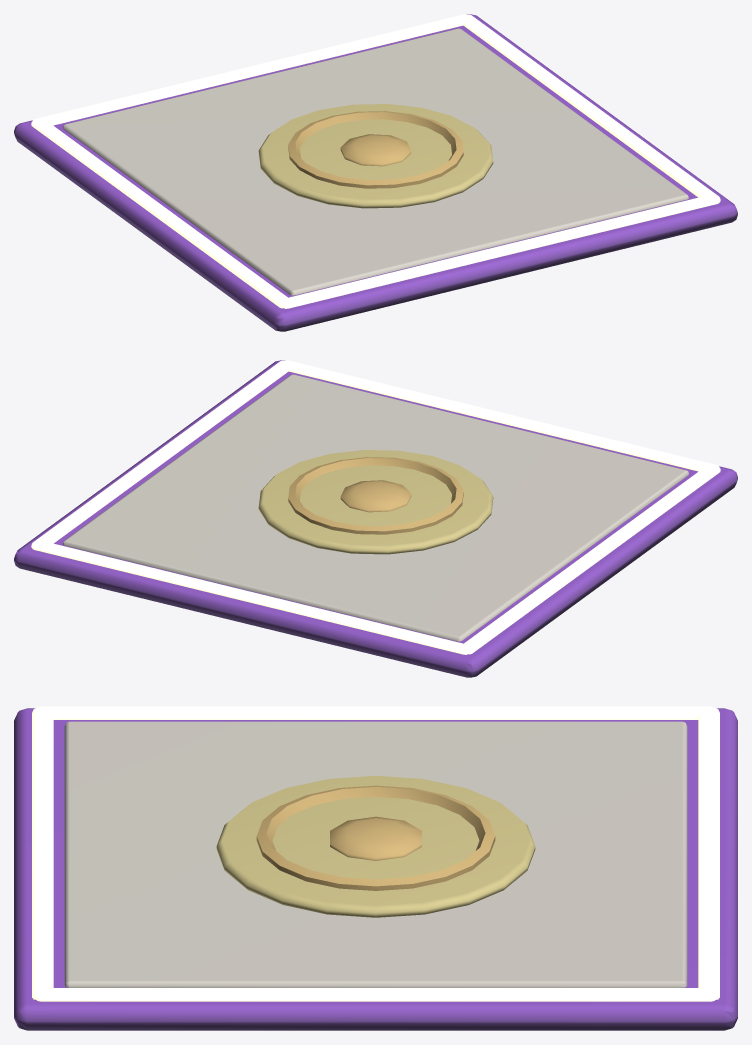
Rendered from collectPad.glb.
The picture shows the model from 3 angles, top to bottom: view 1: azimuth 30°, elevation 25°; view 2: azimuth 150°, elevation 25°; view 3: azimuth 270°, elevation 25°; orthographic projection. The views are drawn at different scales.
Visible parts, largest first — view 1: Body, Glow_FFE066; view 2: Body, Glow_FFE066; view 3: Body, Glow_FFE066.
Part boxes in pixels (x1,y1,x2,y2): Body: (14,14,737,331); Glow_FFE066: (31,14,720,308); Body: (14,360,737,677); Glow_FFE066: (31,360,720,654); Body: (14,708,737,1030); Glow_FFE066: (32,706,719,1001).
Bounding box in the file's own units: 10 × 0.815 × 10.
